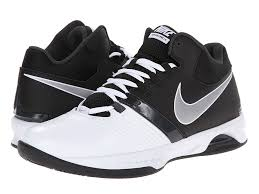nike: (171, 73, 232, 125)
